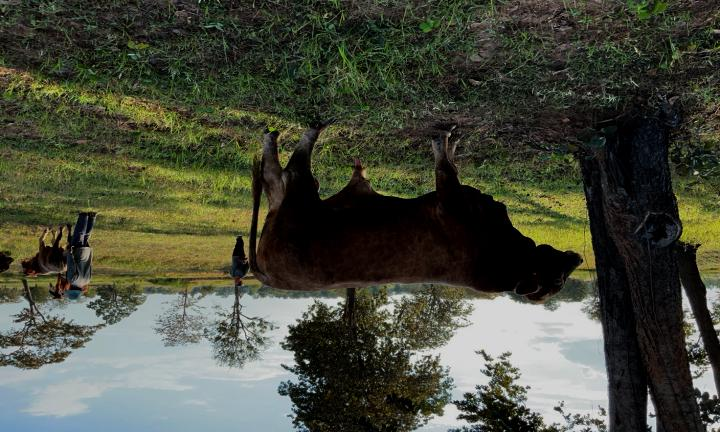Charolais: (250, 125, 583, 302), (250, 126, 582, 302)
